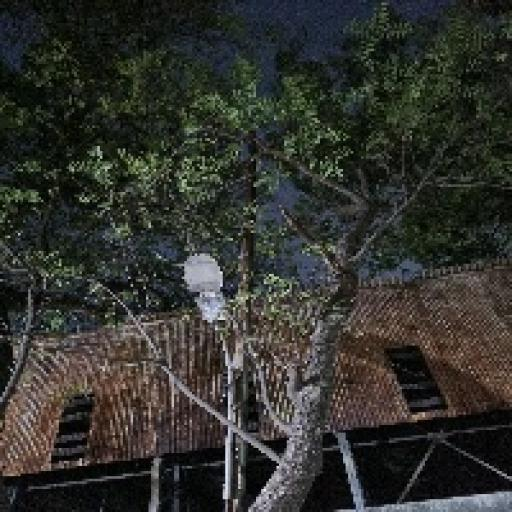Not Working: (168, 240, 244, 337)
